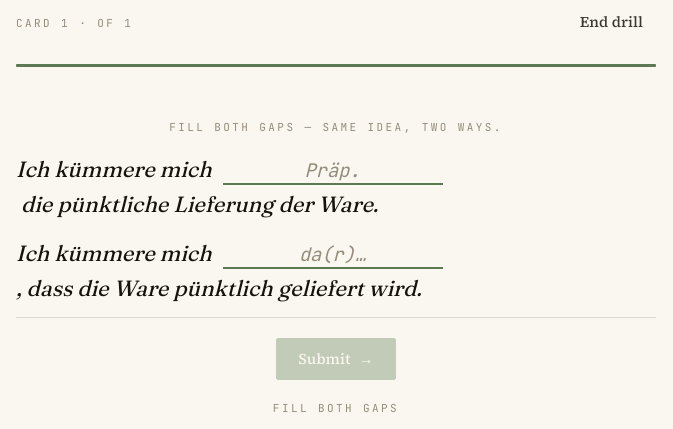
ParaphraseRunner — smoke tests › disables Submit until both gaps are filled
Expected: the button "Submit →" is disabled, [276,338,396,380]
Type "auf" into the field with placeholder "Präp.". click: coordinates (332, 171)
box: [222,158,442,185]
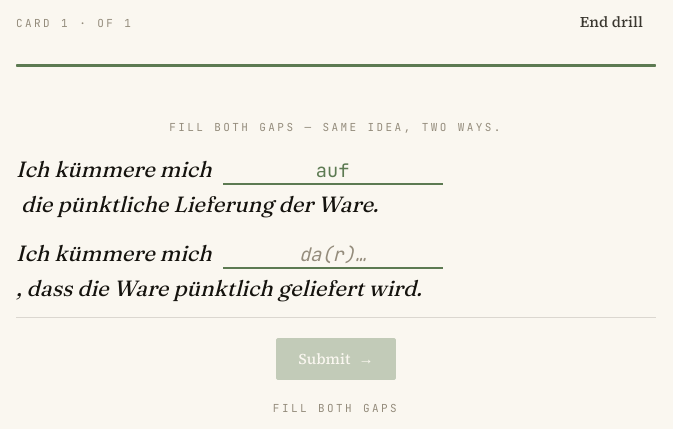
Expected: the button "Submit →" is disabled, [276,338,396,380]
Type "darauf" into the field with placeholder "da(r)…". click: coordinates (332, 255)
box: [222,242,442,269]
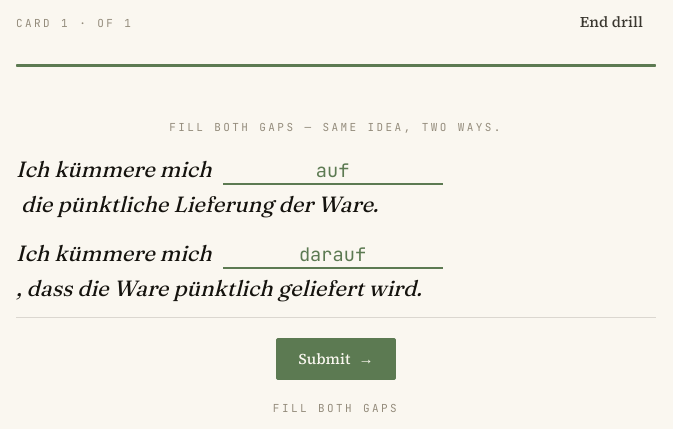
Now the button "Submit →" is enabled, box [276,338,396,380]
